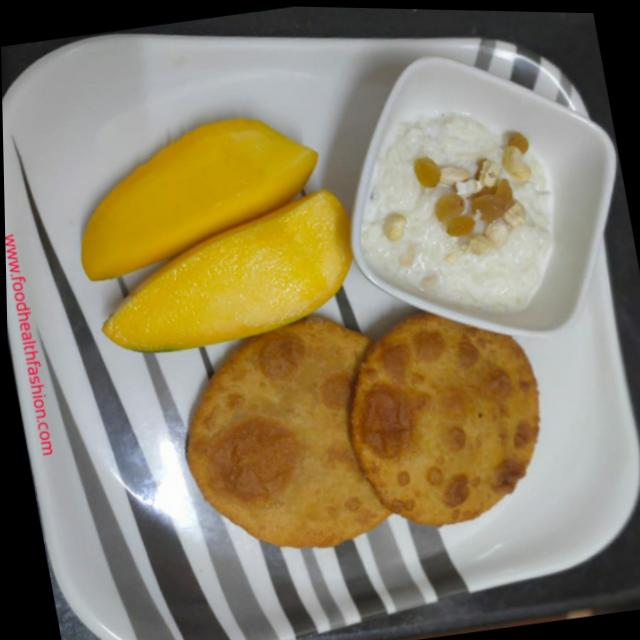POORI: (183, 311, 543, 551)
